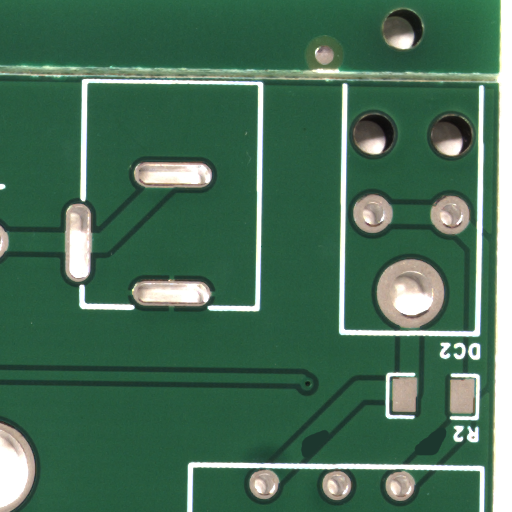Mouse_bite: (431, 441, 462, 471), (315, 444, 346, 472)
